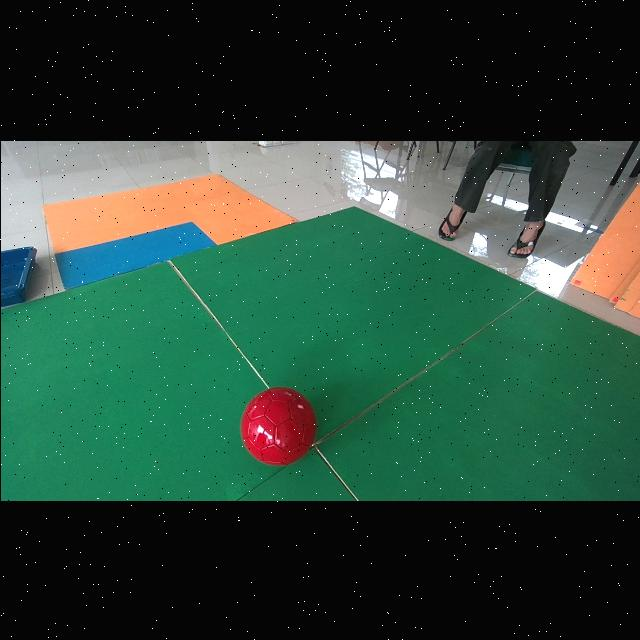R: (241, 386, 315, 464)
